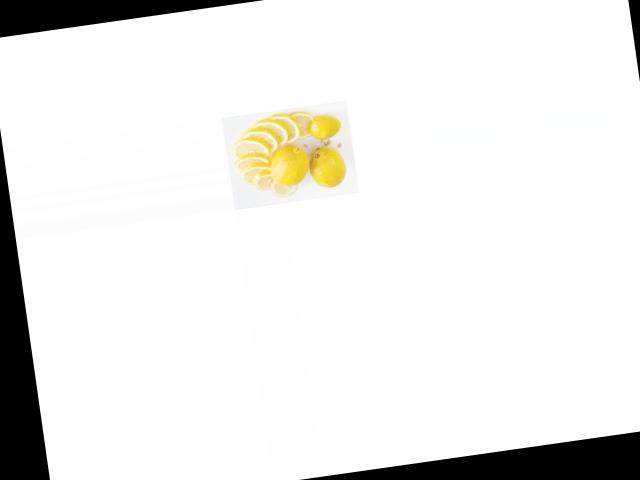lemon: (309, 112, 342, 144)
